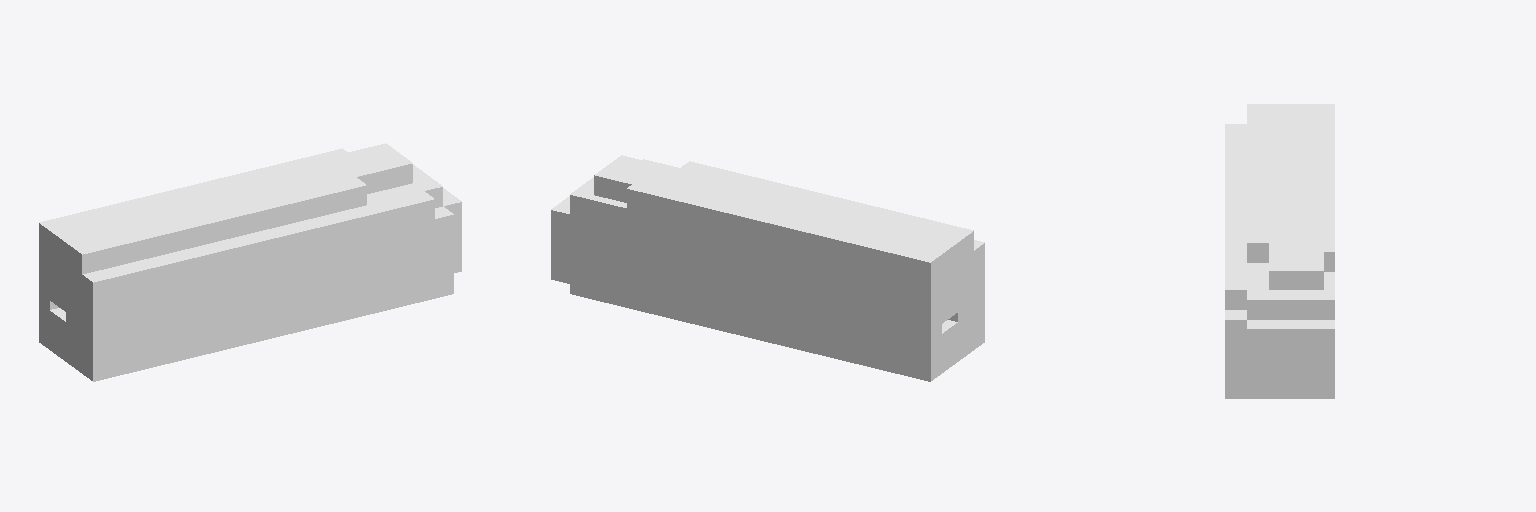
Rendered from right_lower_arm.obj.
3 views of the same model, side by side, from view 1: azimuth 30°, elevation 25°; view 2: azimuth 150°, elevation 25°; view 3: azimuth 270°, elevation 25° (orthographic).
Size of the model in its own units: 40 by 12 by 10.